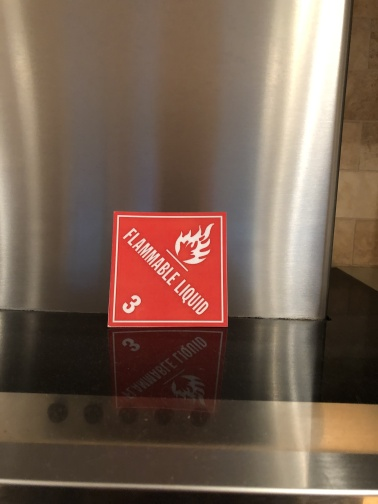FlammableLiquid: (110, 211, 235, 338)
